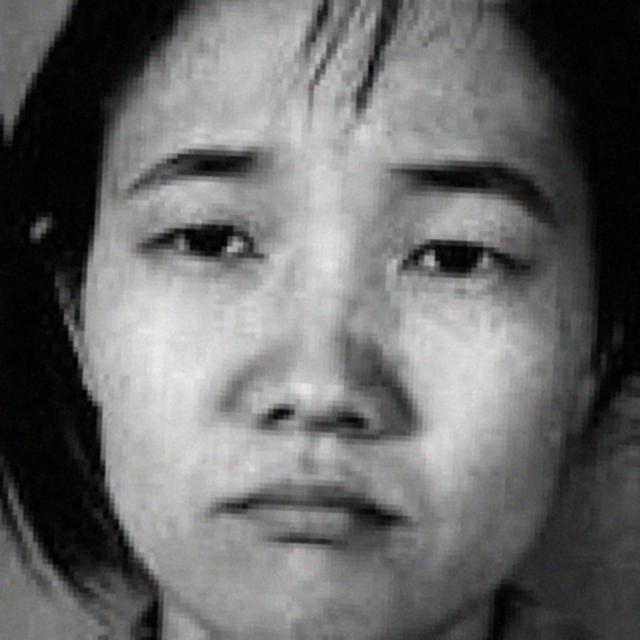sad: (81, 73, 574, 623)
